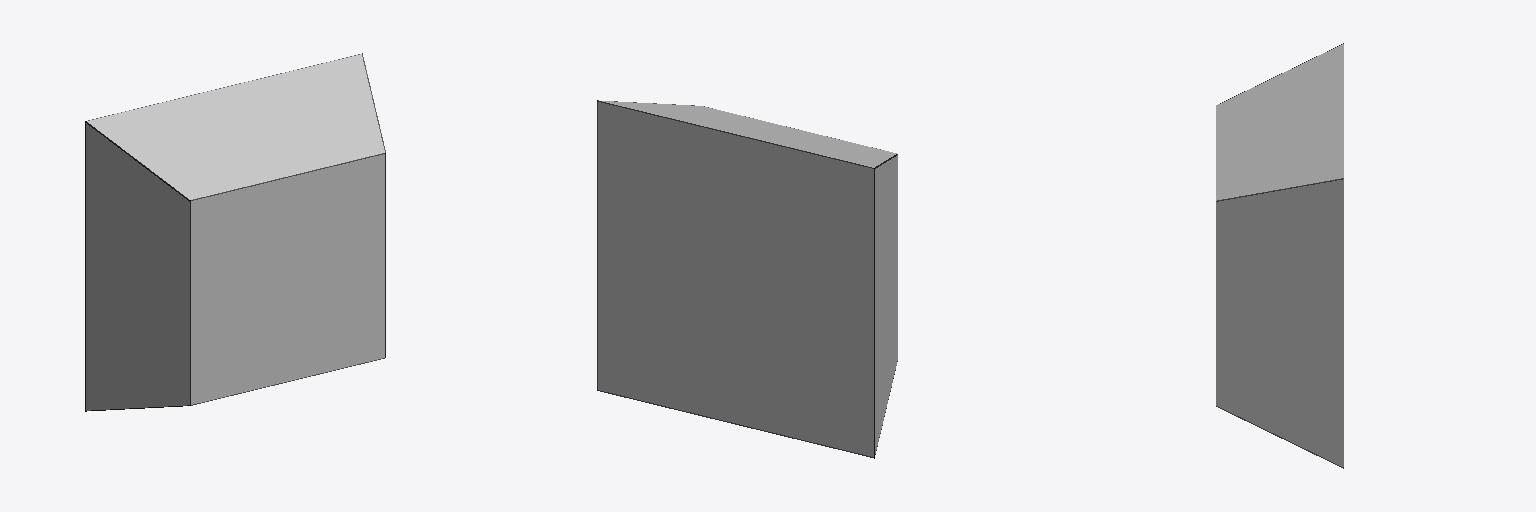
The picture shows the model from 3 angles: view 1: azimuth 30°, elevation 25°; view 2: azimuth 150°, elevation 25°; view 3: azimuth 270°, elevation 25°; orthographic projection.
Parts seen in each view (by area): view 1: 立方体; view 2: 立方体; view 3: 立方体.
Part boxes in pixels (bbox=[...]): 立方体: bbox=[85, 53, 385, 411]; 立方体: bbox=[597, 100, 897, 458]; 立方体: bbox=[1216, 43, 1343, 468].
Size of the model in its own units: 2 by 2 by 0.8008.
Materials: 1 (1 with a texture image).